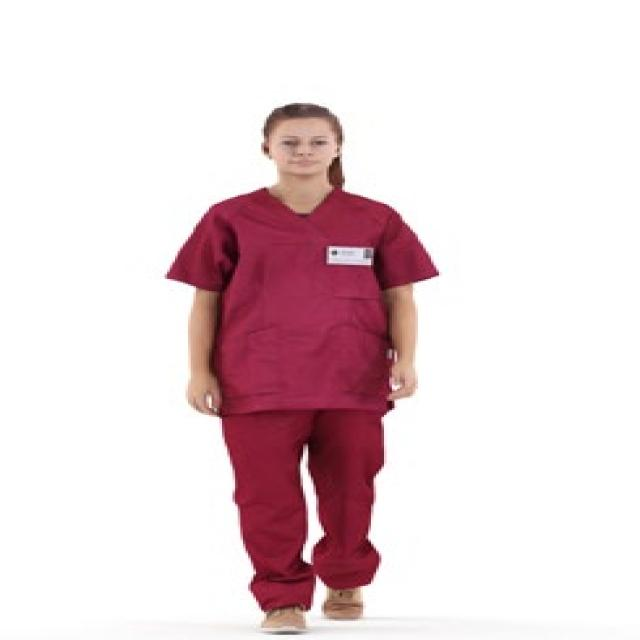standing: (156, 100, 440, 634)
